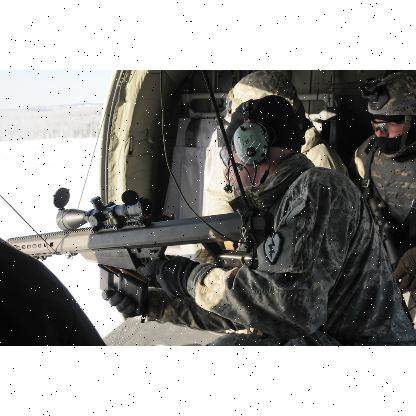gun: (5, 184, 257, 317)
